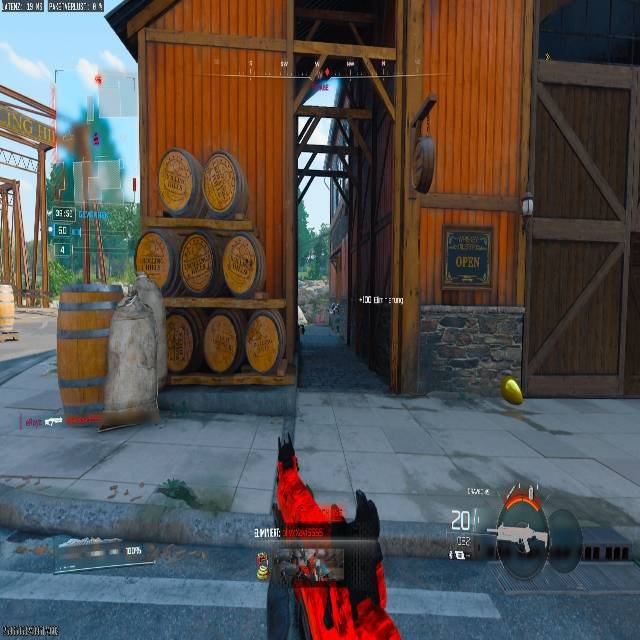player: (328, 300, 343, 333)
